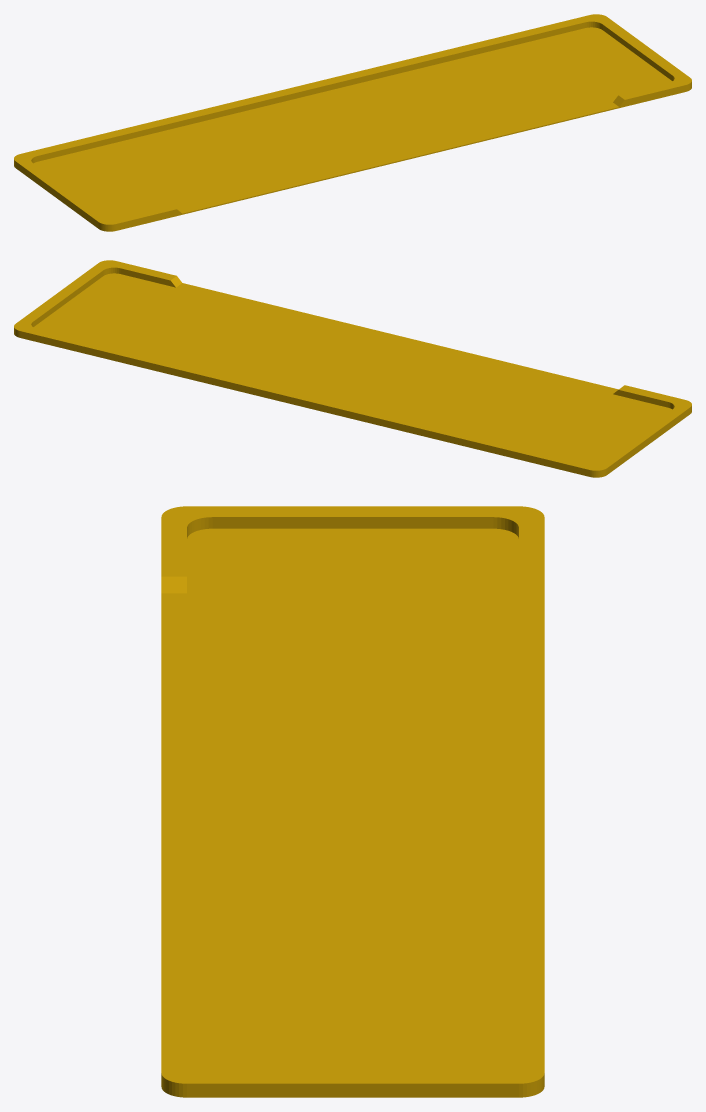
File: playerContainer6.fbx
3 renders of one model, top to bottom at view 1: azimuth 30°, elevation 25°; view 2: azimuth 150°, elevation 25°; view 3: azimuth 270°, elevation 25°, orthographic. The views are drawn at different scales.
Parts seen in each view (by area): view 1: playerContainer; view 2: playerContainer; view 3: playerContainer.
Part boxes in pixels (bbox=[...]): playerContainer: bbox=[14, 14, 691, 231]; playerContainer: bbox=[14, 260, 691, 477]; playerContainer: bbox=[161, 506, 544, 1097].
Bounding box in the file's own units: 53500 × 600 × 15000.
